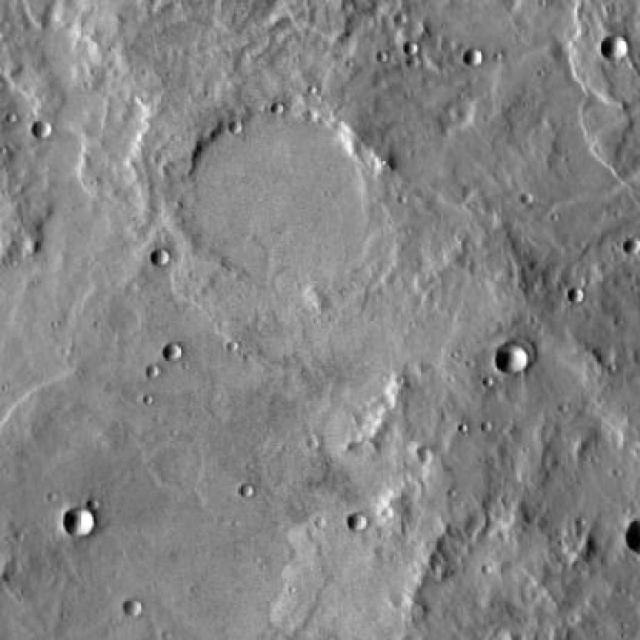crater: (194, 115, 386, 294), (494, 342, 528, 372), (64, 507, 96, 536), (602, 34, 628, 63), (346, 512, 369, 534), (123, 600, 143, 618), (163, 344, 183, 362), (463, 47, 483, 65), (154, 250, 172, 268), (566, 287, 585, 304), (33, 123, 50, 140)
